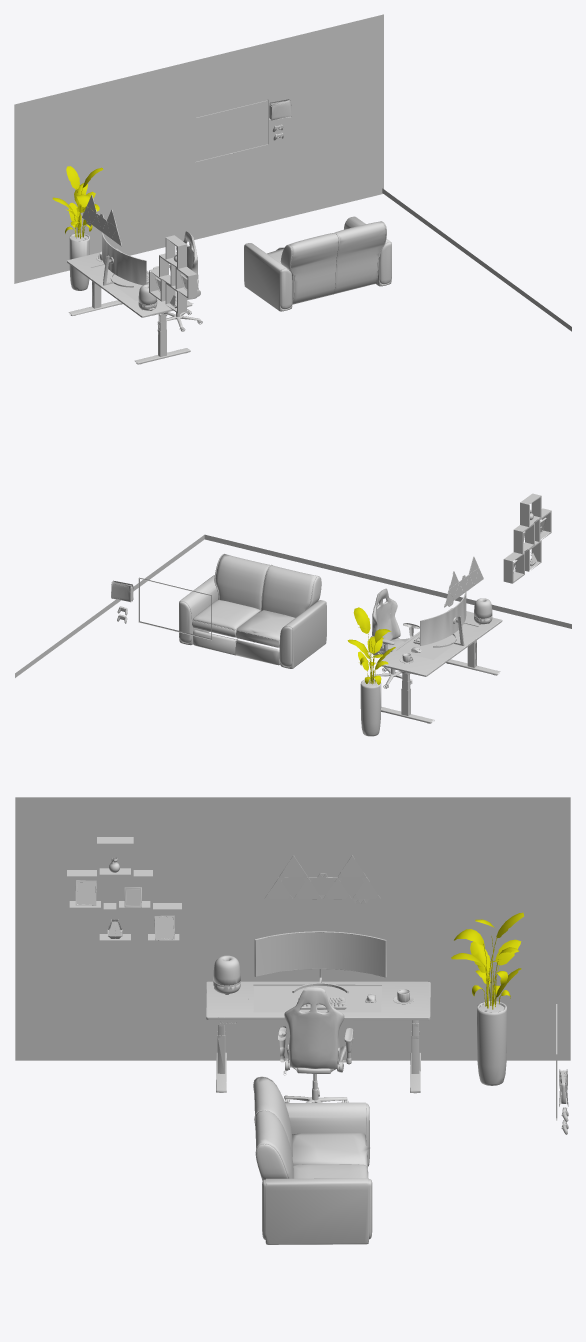
File: offce12w.glb
The picture shows the model from 3 angles, top to bottom: view 1: azimuth 30°, elevation 25°; view 2: azimuth 150°, elevation 25°; view 3: azimuth 270°, elevation 25°; orthographic projection. The views are drawn at different scales.
Parts seen in each view (by area): view 1: Wall2, Black Leather Couch, TV Screen, (CS) Ascend - Sit-stand, Workstation, Black, White shelf, Gaming PC with Curved Monitor, plant.001, Floor, pot.001, mouse pad (keyboard pad); view 2: Black Leather Couch, (CS) Ascend - Sit-stand, Workstation, Black, Floor, White shelf, Gaming PC with Curved Monitor, plant.001, pot.001, Chair_BackRest, mouse pad (keyboard pad), Object_3.002, TV 49Zoll_Black_0; view 3: Wall1, Black Leather Couch, (CS) Ascend - Sit-stand, Workstation, Black, Screen, Chair_BackRest, White shelf, mouse pad (keyboard pad), plant.001, pot.001, Object_3.002, Nano leaf light_violet_0, Gaming PC with Curved Monitor.
Boxes of the visible parts, x1=… form: Wall2: x1=14, y1=14, x2=383, y2=283; Black Leather Couch: x1=244, y1=216, x2=391, y2=311; TV Screen: x1=196, y1=101, x2=267, y2=160; (CS) Ascend - Sit-stand, Workstation, Black: x1=67, y1=248, x2=192, y2=364; White shelf: x1=149, y1=235, x2=197, y2=313; Gaming PC with Curved Monitor: x1=102, y1=232, x2=146, y2=287; plant.001: x1=52, y1=166, x2=103, y2=238; Floor: x1=382, y1=188, x2=571, y2=331; pot.001: x1=69, y1=233, x2=89, y2=290; mouse pad (keyboard pad): x1=91, y1=264, x2=159, y2=300; Black Leather Couch: x1=179, y1=553, x2=326, y2=668; (CS) Ascend - Sit-stand, Workstation, Black: x1=376, y1=608, x2=502, y2=723; Floor: x1=15, y1=534, x2=571, y2=677; White shelf: x1=503, y1=493, x2=551, y2=583; Gaming PC with Curved Monitor: x1=420, y1=592, x2=466, y2=647; plant.001: x1=347, y1=607, x2=395, y2=684; pot.001: x1=360, y1=679, x2=381, y2=736; Chair_BackRest: x1=372, y1=588, x2=400, y2=647; mouse pad (keyboard pad): x1=396, y1=623, x2=478, y2=659; Object_3.002: x1=474, y1=598, x2=492, y2=624; TV 49Zoll_Black_0: x1=138, y1=577, x2=211, y2=640; Wall1: x1=15, y1=797, x2=570, y2=1060; Black Leather Couch: x1=253, y1=1076, x2=372, y2=1244; (CS) Ascend - Sit-stand, Workstation, Black: x1=206, y1=981, x2=430, y2=1093; Screen: x1=256, y1=932, x2=385, y2=976; Chair_BackRest: x1=284, y1=987, x2=344, y2=1068; White shelf: x1=67, y1=837, x2=181, y2=941; mouse pad (keyboard pad): x1=248, y1=984, x2=381, y2=1012; plant.001: x1=451, y1=912, x2=524, y2=1009; pot.001: x1=477, y1=1001, x2=506, y2=1085; Object_3.002: x1=213, y1=955, x2=240, y2=993; Nano leaf light_violet_0: x1=341, y1=859, x2=377, y2=899; Gaming PC with Curved Monitor: x1=254, y1=931, x2=386, y2=993.
Bounding box in the file's own units: 40.58 × 18.94 × 36.1.
